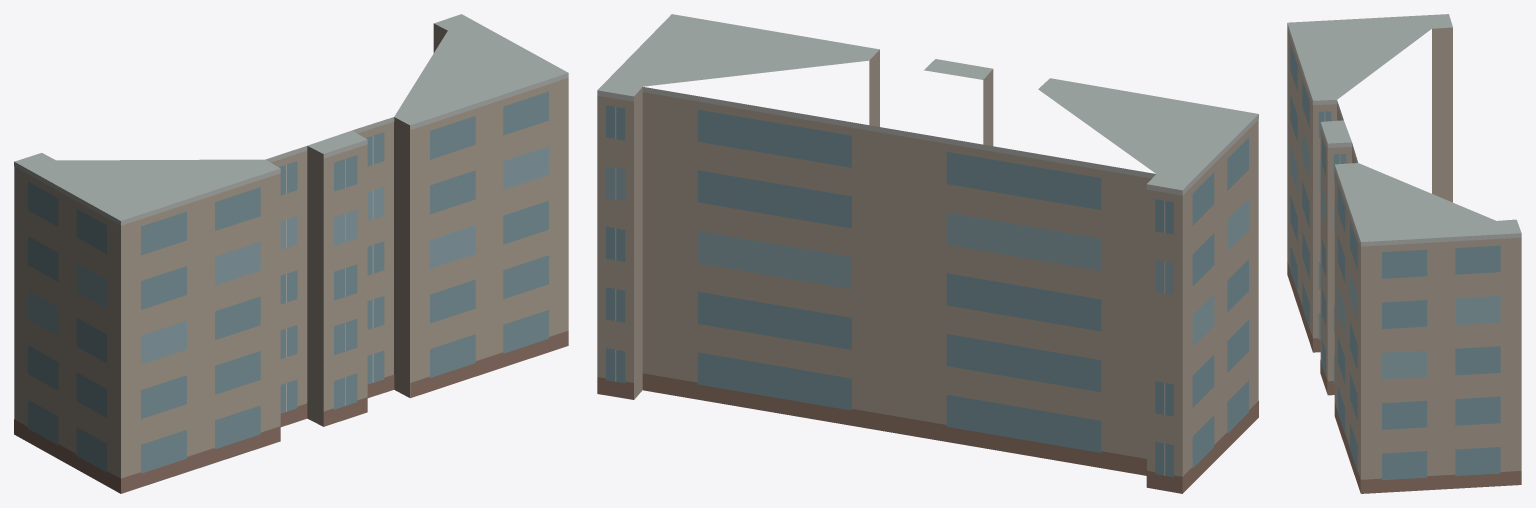
File: survey-upis-32987346.glb
3 views of the same model, side by side, from view 1: azimuth 30°, elevation 25°; view 2: azimuth 150°, elevation 25°; view 3: azimuth 270°, elevation 25° (orthographic). The views are drawn at different scales.
Parts seen in each view (by area): view 1: survey-upis-32987346.tmp; view 2: survey-upis-32987346.tmp; view 3: survey-upis-32987346.tmp.
Part boxes in pixels (x1,y1,x2,y2): survey-upis-32987346.tmp: [14, 14, 568, 493]; survey-upis-32987346.tmp: [597, 14, 1258, 493]; survey-upis-32987346.tmp: [1287, 14, 1521, 493].
Bounding box in the file's own units: 27.03 × 13.9 × 11.74.
